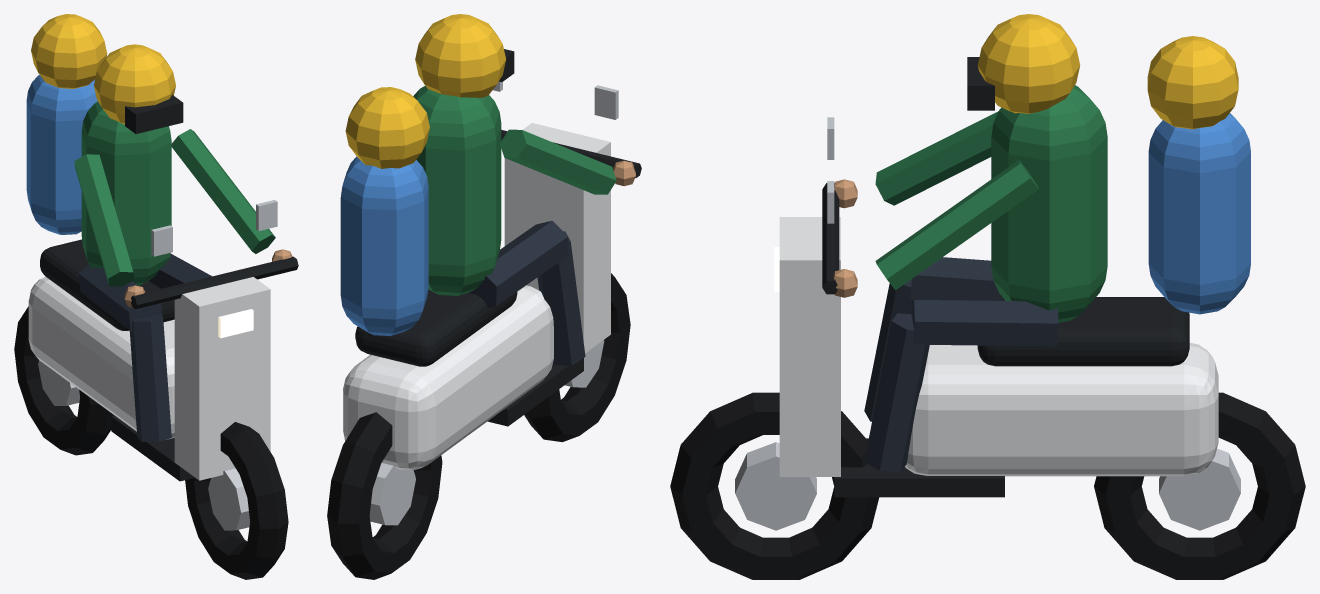
File: motorbike_c.glb
3 views of the same model, side by side, from view 1: azimuth 30°, elevation 25°; view 2: azimuth 150°, elevation 25°; view 3: azimuth 270°, elevation 25° (orthographic). The views are drawn at different scales.
Parts seen in each view (by area): view 1: moto; view 2: moto; view 3: moto.
Boxes of the visible parts, bbox=[...] form: moto: bbox=[14, 14, 298, 579]; moto: bbox=[327, 14, 641, 579]; moto: bbox=[670, 14, 1305, 579].
Size of the model in its own units: 0.71 by 1.81 by 1.86.
